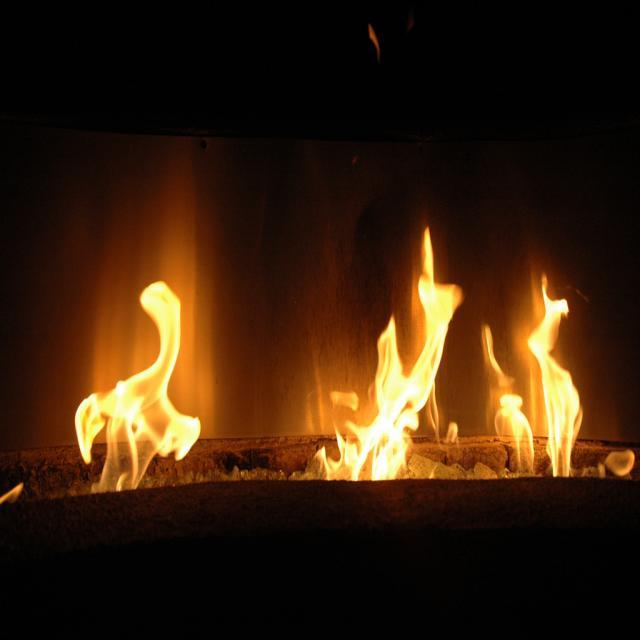Fire: (342, 222, 464, 479), (76, 264, 205, 474), (478, 271, 590, 478)
